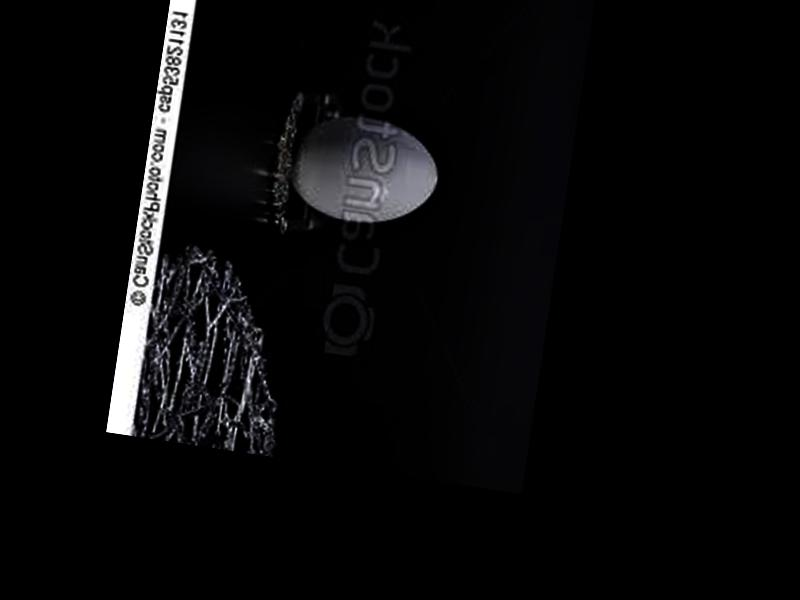Eggs: (284, 107, 444, 234)
